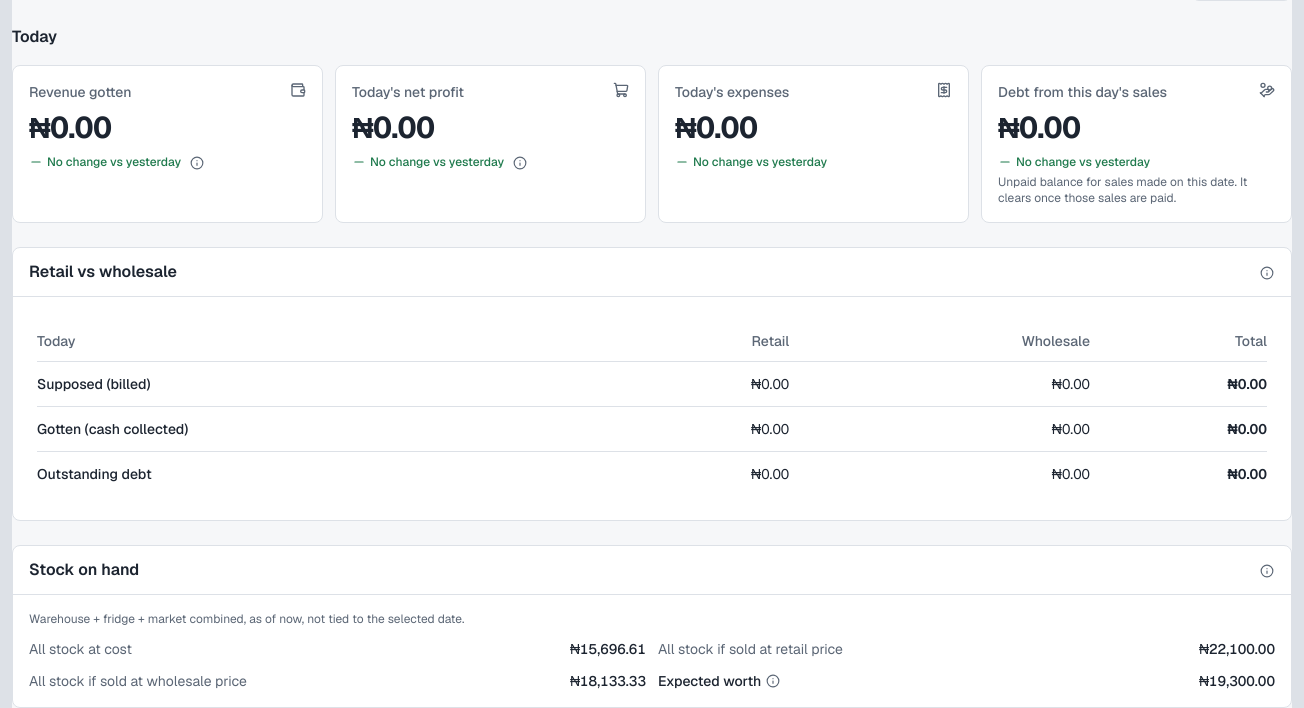
it: Dashboard stock on hand › labels unchanged all-stock figures and displays expected worth
(page scrolled)
Expected: the text "Warehouse + fridge + market combined" is shown, [29,611,464,627]
Click the button named "Explain expected worth". click: (773, 681)
box: [765,673,781,689]
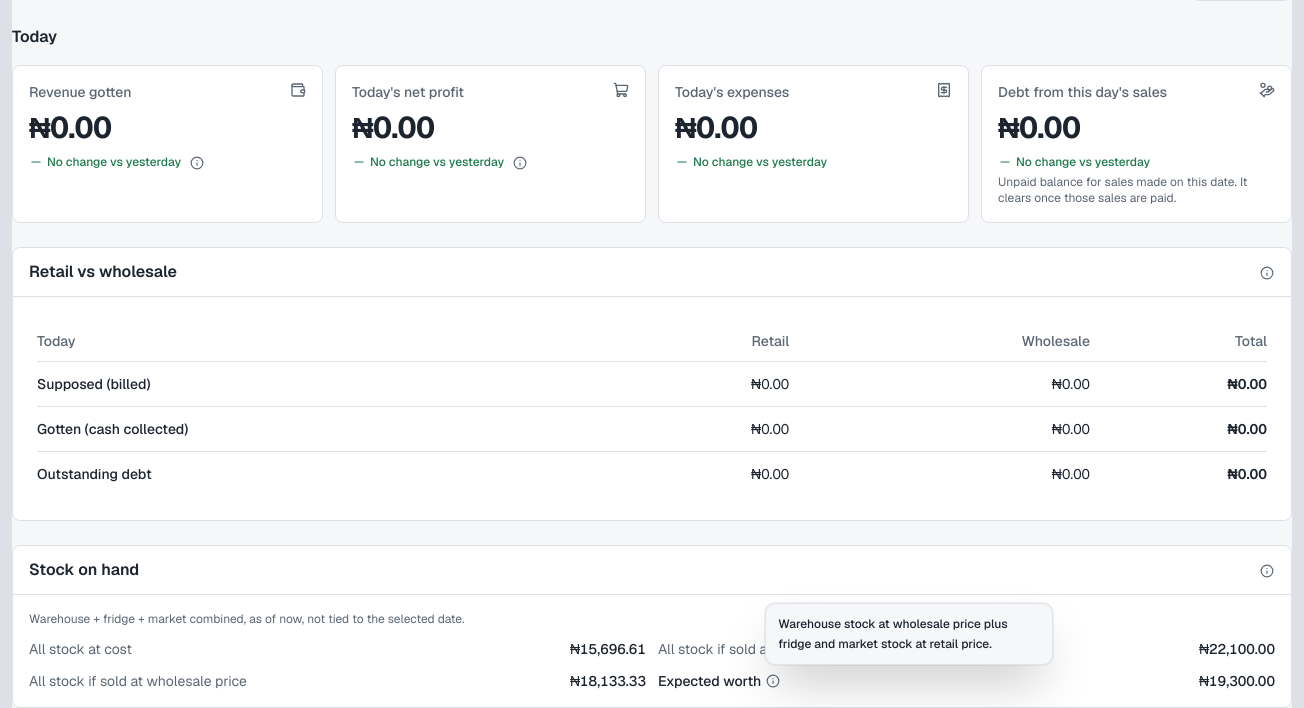
Expected: the tooltip "Warehouse stock at wholesale price plus fridge and market stock at retail price." is shown, [765,603,1053,665]
